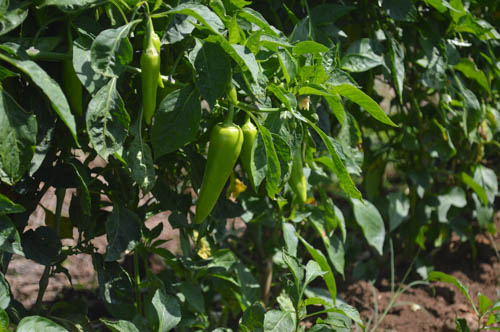ChiliPepper: (194, 126, 242, 221), (140, 50, 159, 125), (241, 128, 260, 188)
